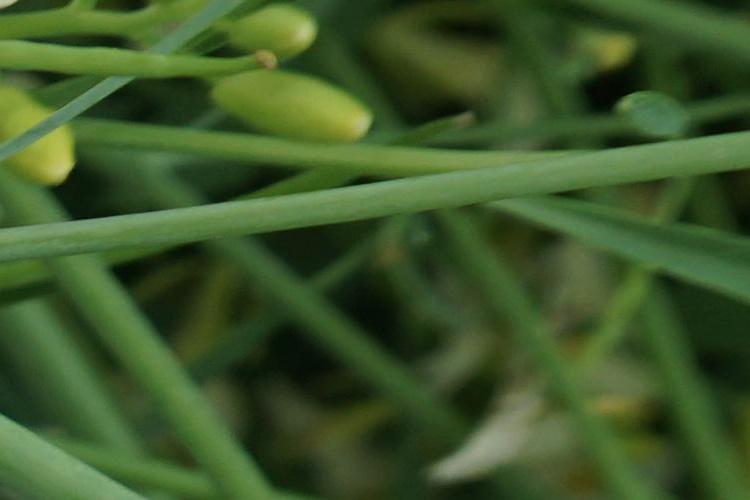bud: (186, 63, 377, 148), (7, 86, 87, 192), (195, 4, 329, 67)
pod: (2, 43, 290, 83)
